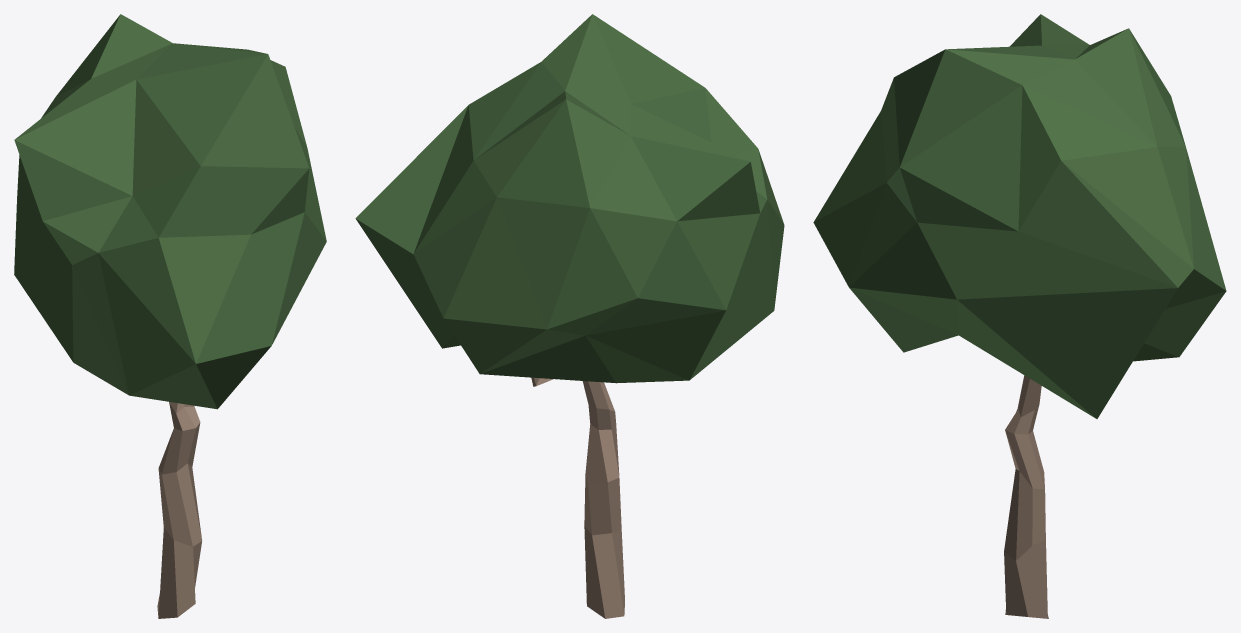
File: tree6.fbx
3 views of the same model, side by side, from view 1: azimuth 30°, elevation 25°; view 2: azimuth 150°, elevation 25°; view 3: azimuth 270°, elevation 25° (orthographic). The views are drawn at different scales.
Parts seen in each view (by area): view 1: Icosphere, Tree; view 2: Icosphere, Tree; view 3: Icosphere, Tree.
Part boxes in pixels (x1=…): Icosphere: x1=14, y1=14, x2=326, y2=409; Tree: x1=157, y1=402, x2=202, y2=618; Icosphere: x1=355, y1=14, x2=784, y2=383; Tree: x1=531, y1=377, x2=624, y2=618; Icosphere: x1=813, y1=14, x2=1226, y2=418; Tree: x1=1004, y1=375, x2=1048, y2=618.
Size of the model in its own units: 371 by 596 by 369.
